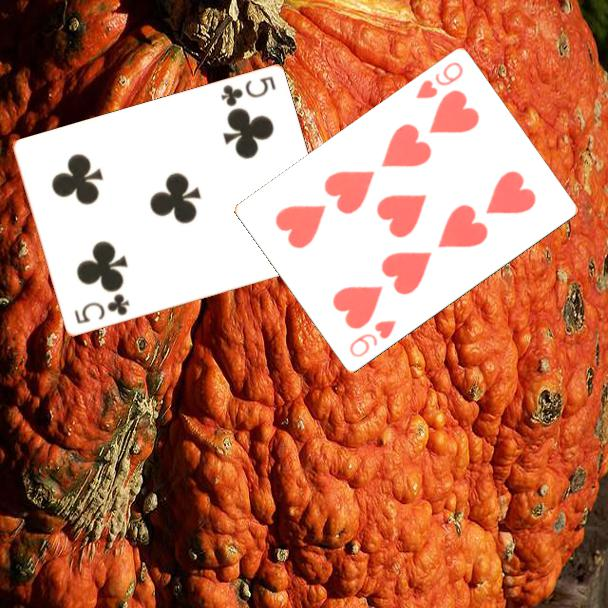c05: (70, 290, 132, 327), (217, 73, 278, 110)
h09: (346, 317, 399, 361), (412, 59, 466, 102)
